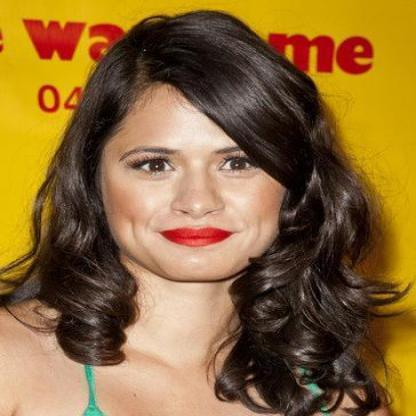long-hair: (20, 282, 362, 328)
